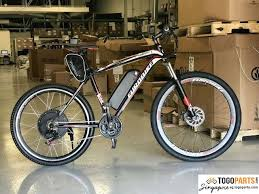bicycle: (8, 5, 245, 164)
